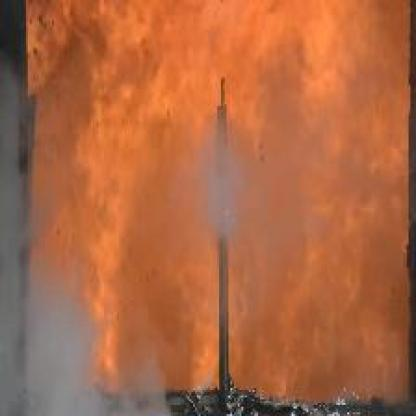fire: (24, 0, 412, 407)
